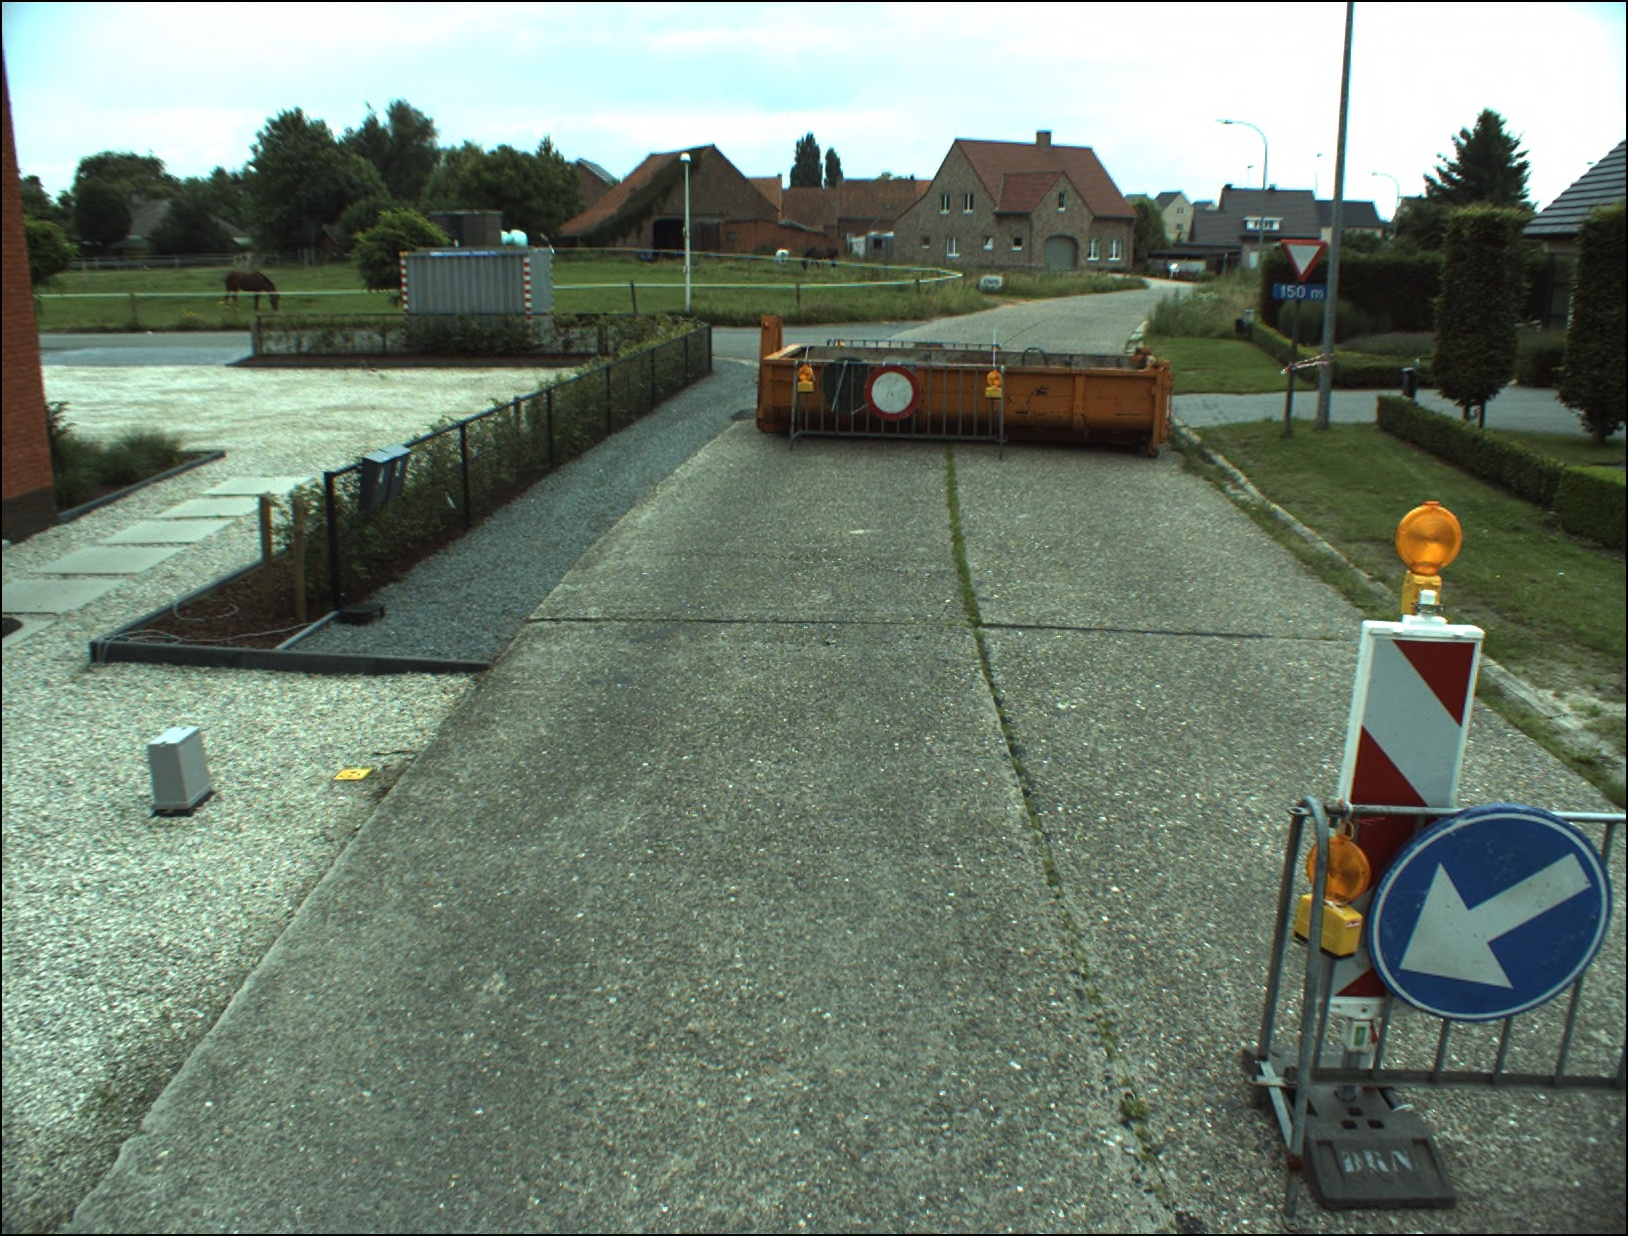forbidden: (866, 367, 918, 419)
giveway: (1279, 239, 1326, 279)
passleft: (1371, 808, 1611, 1023)
